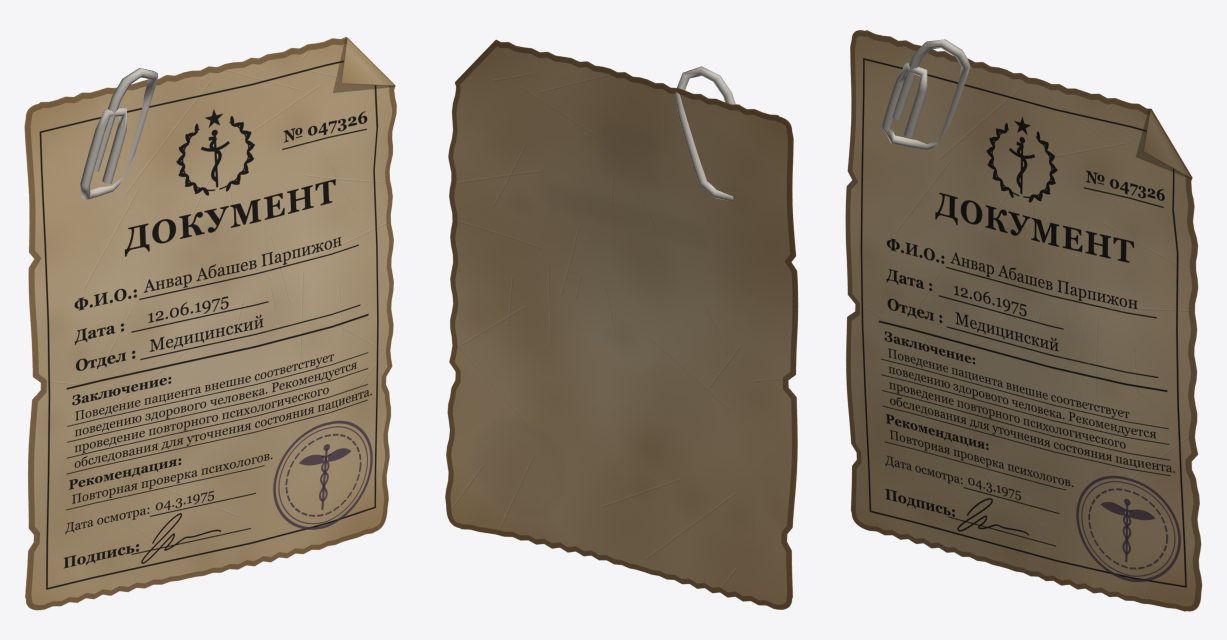
Rendered from document.glb.
The picture shows the model from 3 angles, left to right: view 1: azimuth 30°, elevation 25°; view 2: azimuth 150°, elevation 25°; view 3: azimuth 330°, elevation 25°; orthographic projection. The views are drawn at different scales.
Parts seen in each view (by area): view 1: Paper_Front, Metal_Paperclip, Paper_Core_0.25, Paper_Core_0, Paper_Core_-0.25; view 2: Paper_Back, Metal_Paperclip, Paper_Core_-0.25, Paper_Core_0, Paper_Core_0.25; view 3: Paper_Front, Metal_Paperclip, Paper_Core_0.25, Paper_Core_-0.25, Paper_Core_0.
Boxes of the visible parts, bbox=[...] form: Paper_Front: bbox=[25, 37, 396, 610]; Metal_Paperclip: bbox=[80, 68, 157, 199]; Paper_Core_0.25: bbox=[25, 37, 346, 607]; Paper_Core_0: bbox=[25, 37, 346, 606]; Paper_Core_-0.25: bbox=[24, 37, 345, 605]; Paper_Back: bbox=[445, 40, 796, 609]; Metal_Paperclip: bbox=[675, 66, 739, 201]; Paper_Core_-0.25: bbox=[466, 40, 797, 605]; Paper_Core_0: bbox=[496, 40, 797, 606]; Paper_Core_0.25: bbox=[496, 39, 798, 604]; Paper_Front: bbox=[845, 31, 1200, 611]; Metal_Paperclip: bbox=[881, 39, 970, 150]; Paper_Core_0.25: bbox=[848, 30, 1201, 609]; Paper_Core_-0.25: bbox=[858, 30, 1202, 606]; Paper_Core_0: bbox=[857, 30, 1201, 607].
Bounding box in the file's own units: 2.1 × 2.85 × 0.1563.
Materials: 4 (3 with a texture image).
